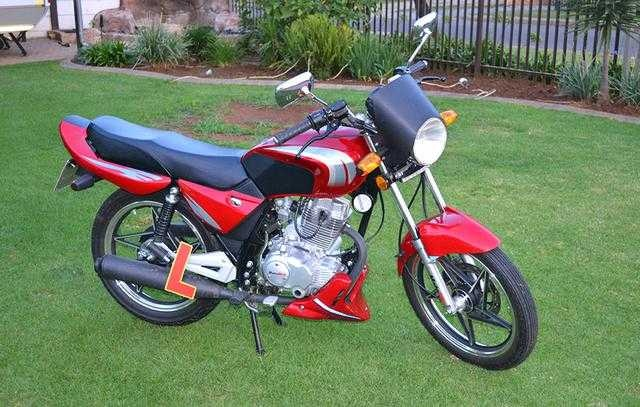motorbike: (52, 10, 539, 371)
